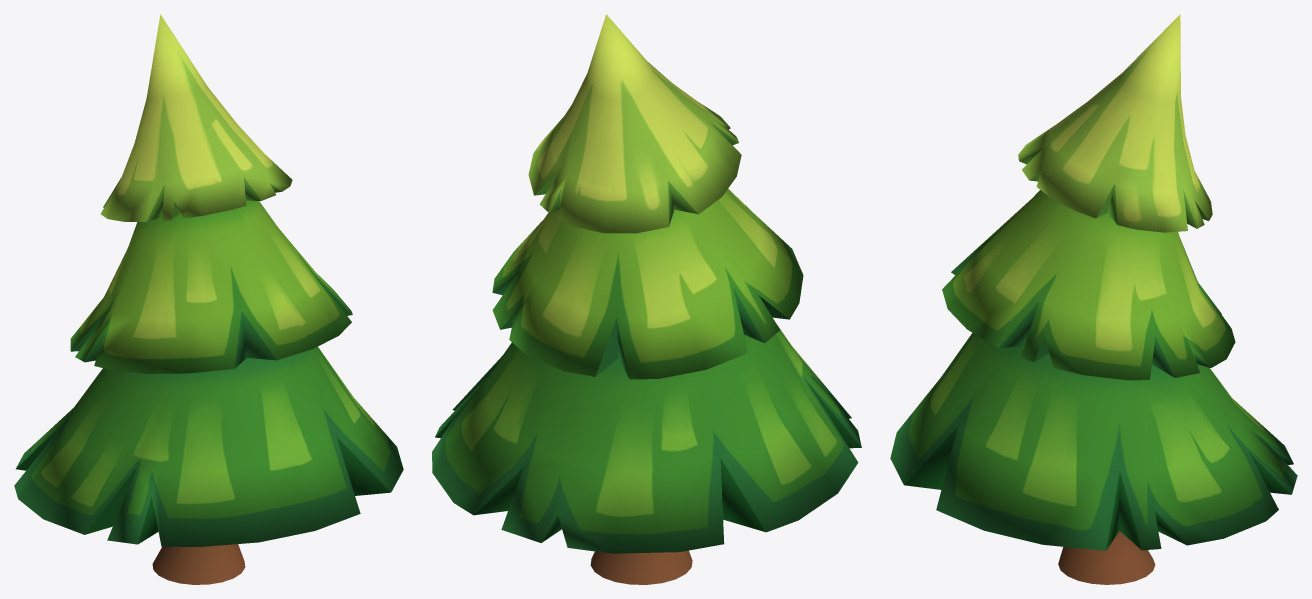
Rendered from TreeZero.glb.
The picture shows the model from 3 angles, left to right: view 1: azimuth 30°, elevation 25°; view 2: azimuth 150°, elevation 25°; view 3: azimuth 270°, elevation 25°; orthographic projection. The views are drawn at different scales.
Parts seen in each view (by area): view 1: tree_1_1; view 2: tree_1_1; view 3: tree_1_1.
Boxes of the visible parts, <box> form: tree_1_1: <box>14,14,403,584</box>; tree_1_1: <box>432,14,861,584</box>; tree_1_1: <box>890,14,1297,584</box>.
Bounding box in the file's own units: 4.86 × 7.2 × 4.84.
Materials: 1 (1 with a texture image).
